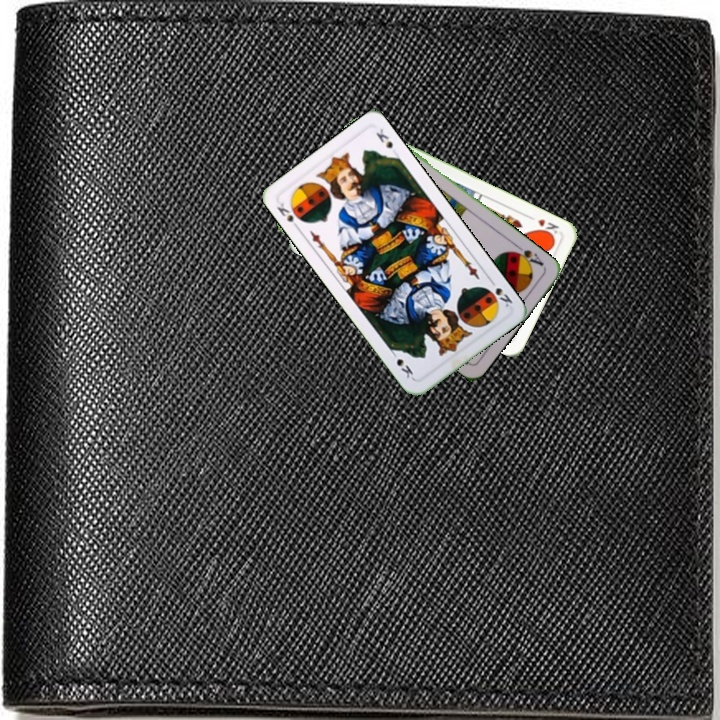HK: (524, 212, 561, 239)
SA: (508, 241, 546, 270)
SK: (273, 198, 307, 233), (485, 275, 515, 310)
